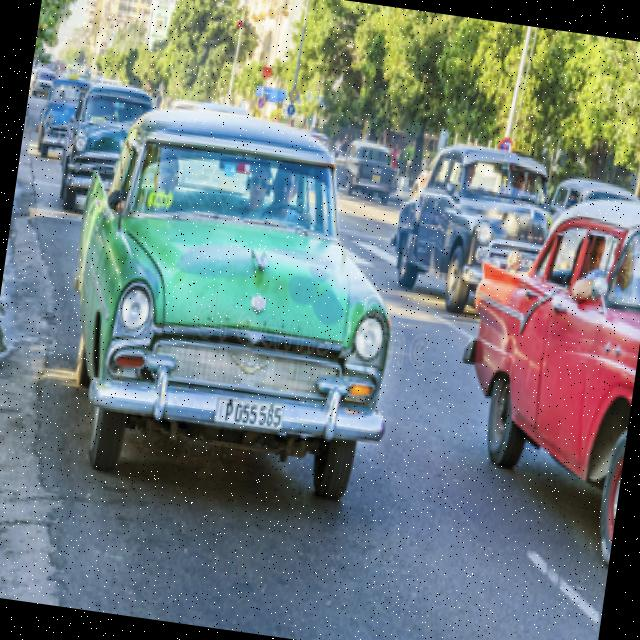Autre: (210, 394, 286, 431)
